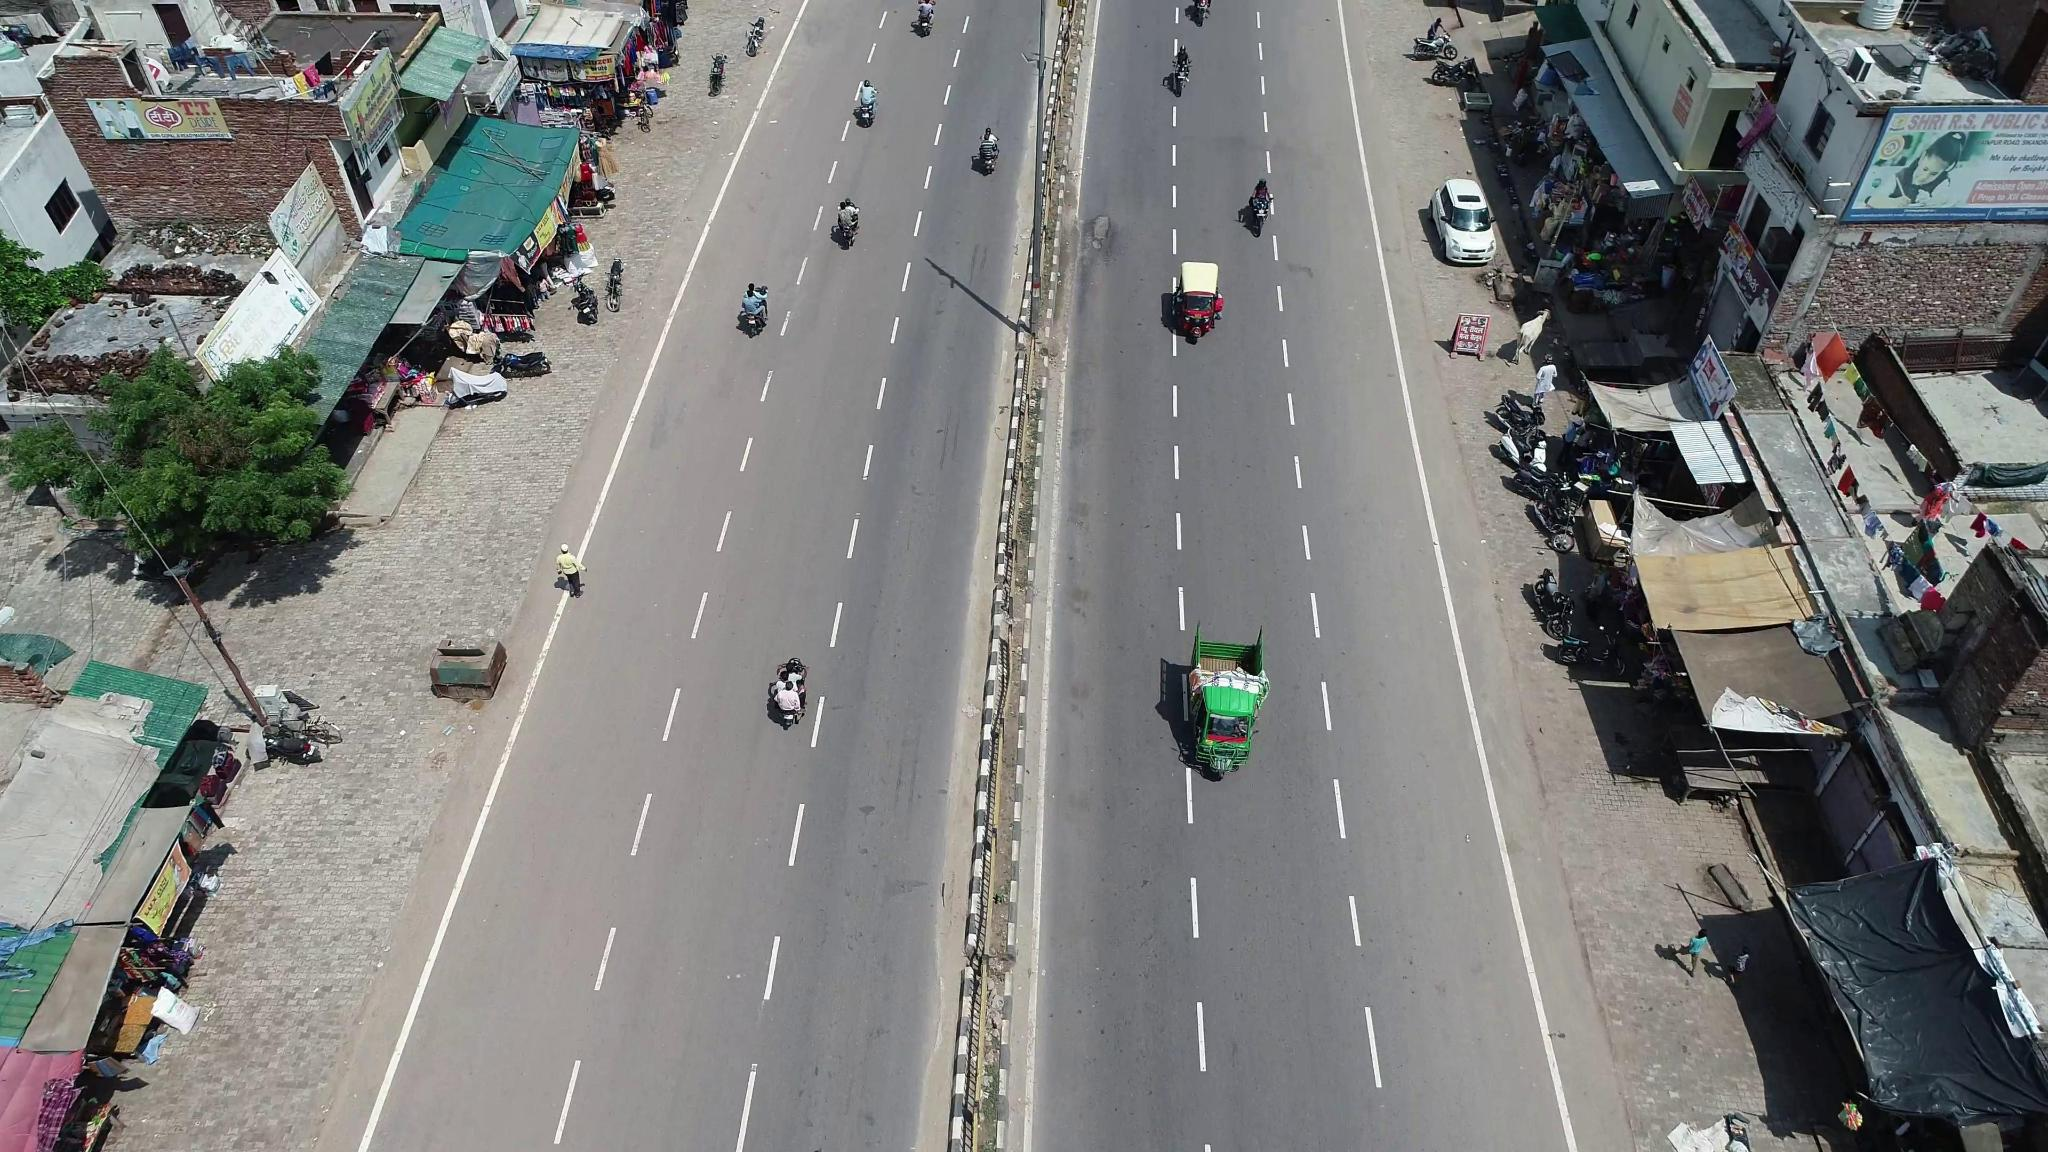Potholes: (1084, 193, 1135, 297)
